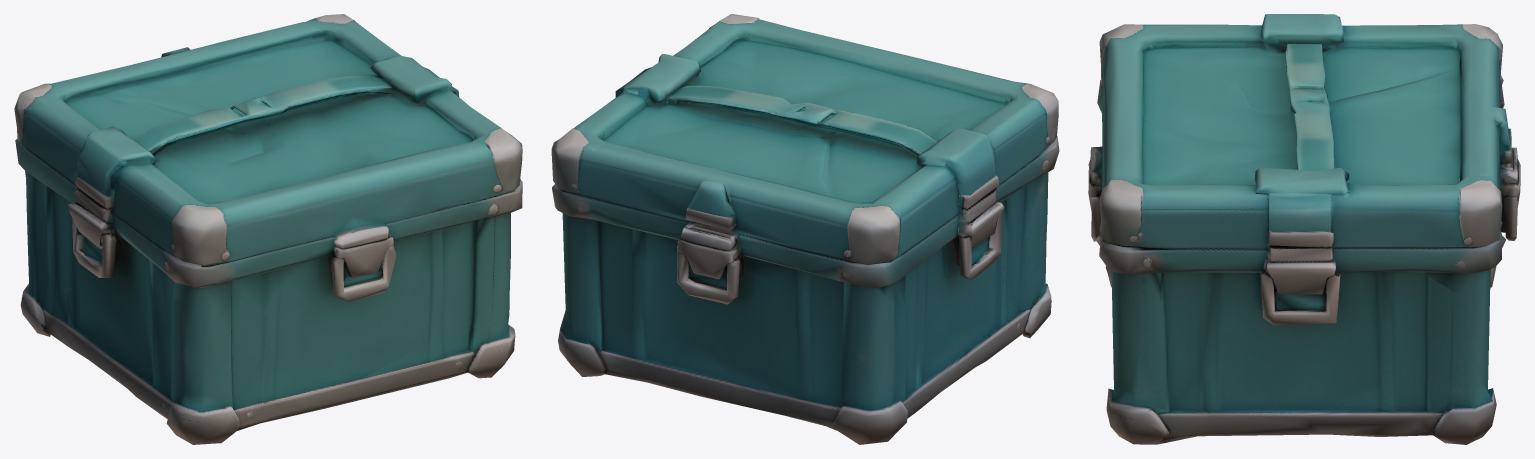
File: utility_item_box_3000.glb
3 renders of one model, left to right at view 1: azimuth 30°, elevation 25°; view 2: azimuth 150°, elevation 25°; view 3: azimuth 270°, elevation 25°, orthographic. The views are drawn at different scales.
Visible parts, largest first — view 1: tripo_node_ea1614f7-25a1-4a82-bcb0-8554201e799c; view 2: tripo_node_ea1614f7-25a1-4a82-bcb0-8554201e799c; view 3: tripo_node_ea1614f7-25a1-4a82-bcb0-8554201e799c.
Part boxes in pixels (left/top/right/bottom): tripo_node_ea1614f7-25a1-4a82-bcb0-8554201e799c: left=14, top=14, right=522, bottom=444; tripo_node_ea1614f7-25a1-4a82-bcb0-8554201e799c: left=551, top=14, right=1059, bottom=444; tripo_node_ea1614f7-25a1-4a82-bcb0-8554201e799c: left=1088, top=14, right=1520, bottom=444.
Bounding box in the file's own units: 0.9796 × 0.6237 × 0.9229.
1 material, 1 textured.
